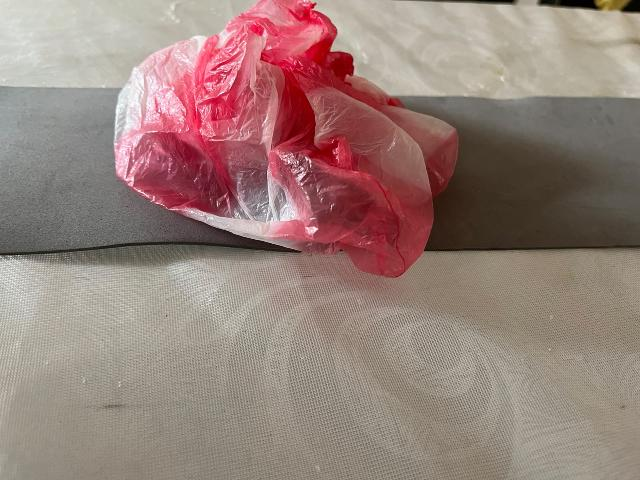LDPE: (96, 0, 486, 298)
